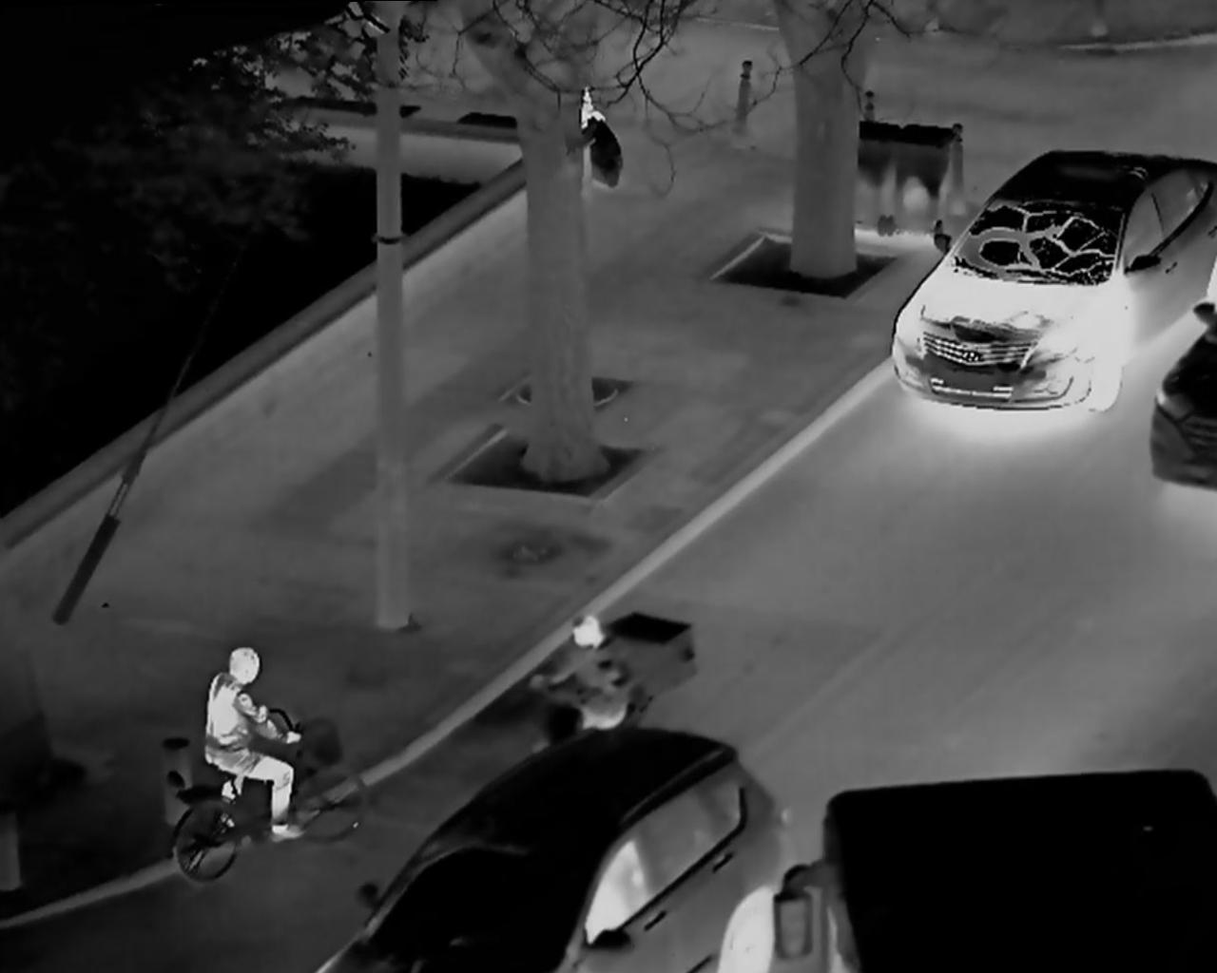person: (183, 638, 321, 871), (535, 608, 632, 733)
